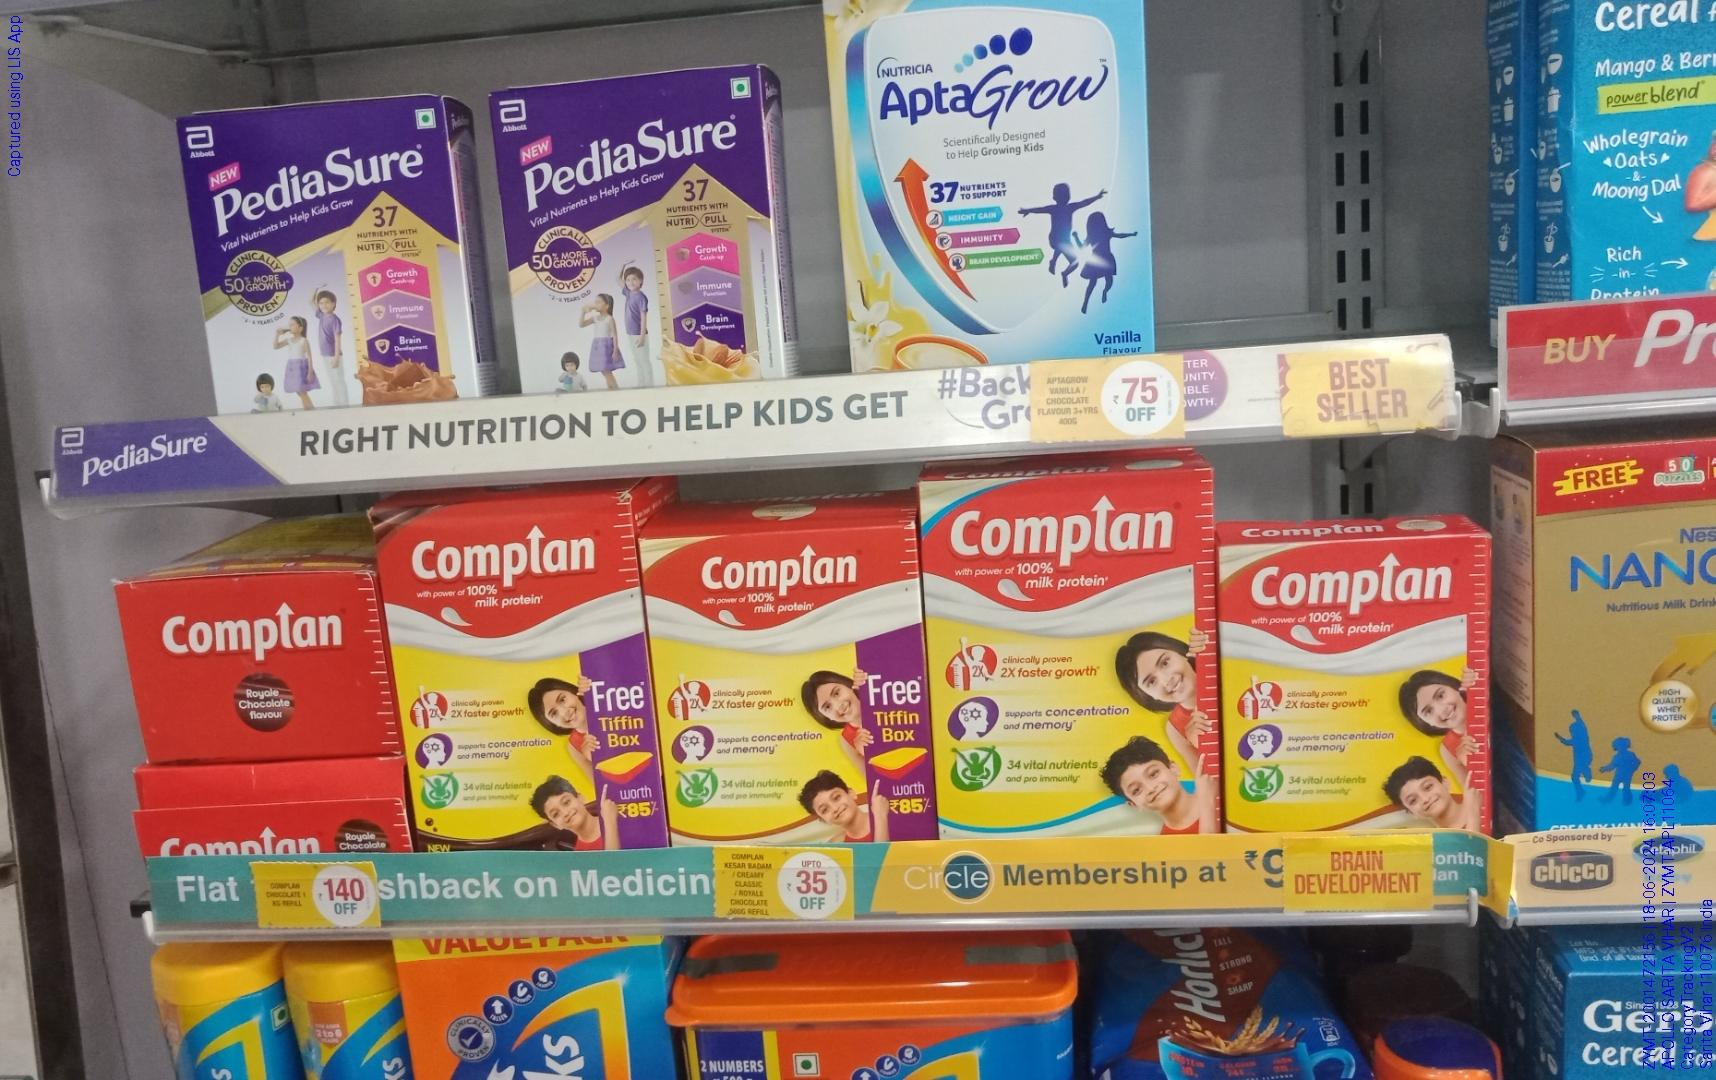COMPLAN_CHOCOLATE_500_GMS_PACK: (403, 482, 632, 852)
COMPLAN_CREAMY_CLASSIC_500_G_PACK: (937, 479, 1215, 837)
COMPLAN_KESAR_BADAM_500_GMS_PACK: (652, 534, 927, 835), (1224, 549, 1492, 845)
PEDIASURE_CHOCOLATE_500_G_PACK: (187, 112, 475, 404)
PEDIASURE_VANILLA_500_G_PACK: (499, 85, 786, 386)
